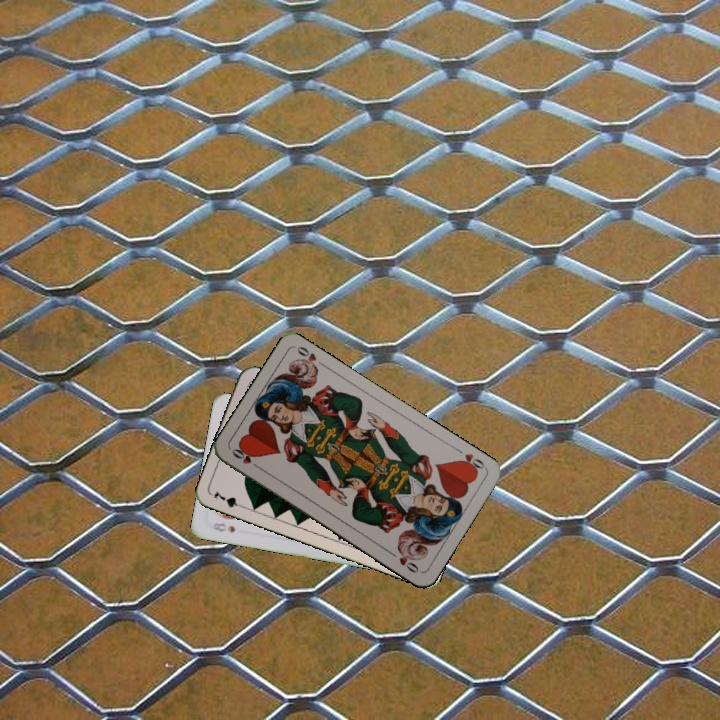G7: (210, 486, 248, 511)
HO: (228, 444, 264, 472), (453, 449, 488, 476)
S8: (208, 518, 238, 535)
